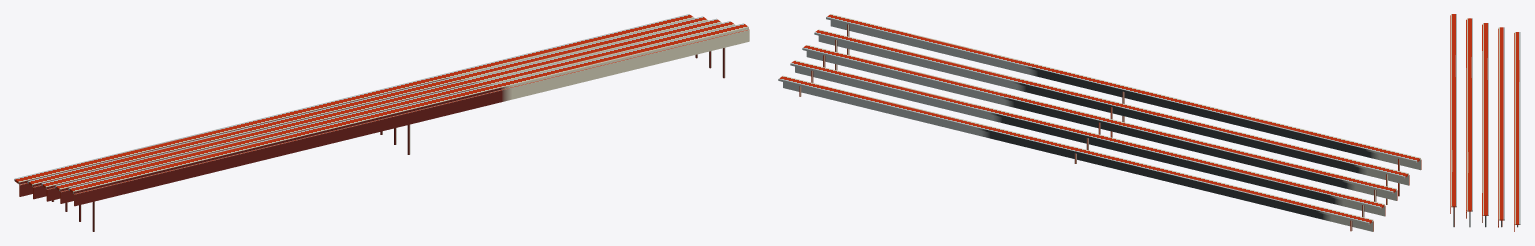
Rendered from bleacher_section_60.glb.
The picture shows the model from 3 angles, left to right: view 1: azimuth 30°, elevation 25°; view 2: azimuth 150°, elevation 25°; view 3: azimuth 270°, elevation 25°; orthographic projection. The views are drawn at different scales.
Visible parts, largest first — view 1: bleacher_section_60; view 2: bleacher_section_60; view 3: bleacher_section_60.
Part boxes in pixels (<box>): bleacher_section_60: <box>14,14,749,231</box>; bleacher_section_60: <box>778,14,1421,231</box>; bleacher_section_60: <box>1450,14,1520,231</box>.
Bounding box in the file's own units: 60 × 3.99 × 9.31.
Materials: 1 (1 with a texture image).
